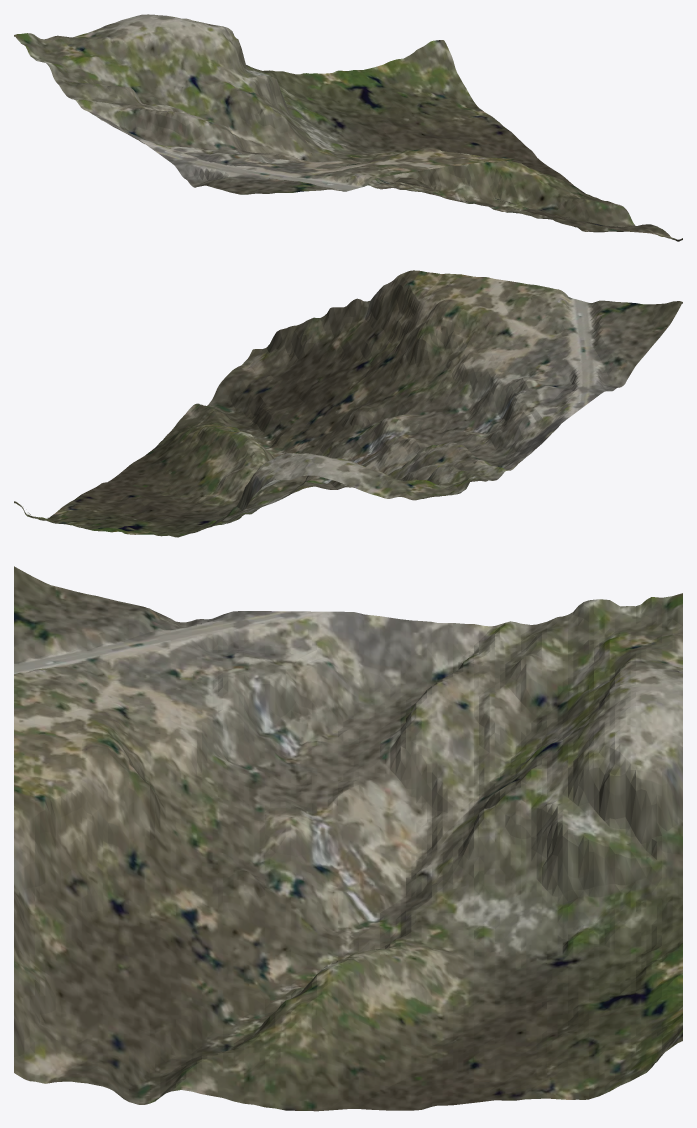
3 renders of one model, top to bottom at view 1: azimuth 30°, elevation 25°; view 2: azimuth 150°, elevation 25°; view 3: azimuth 270°, elevation 25°, orthographic. The views are drawn at different scales.
Size of the model in its own units: 250 by 101 by 241.
1 material, 1 textured.
